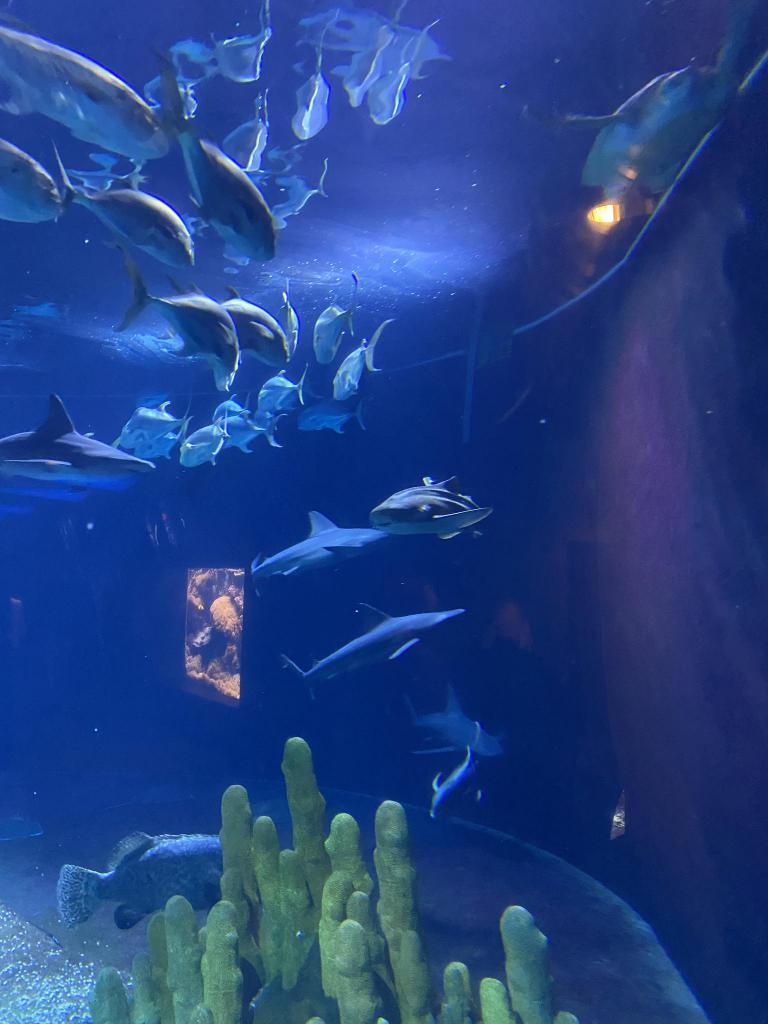fish: (153, 47, 276, 263), (0, 44, 171, 160), (55, 140, 195, 268), (58, 831, 224, 931), (113, 245, 237, 373), (157, 286, 290, 368), (1, 136, 62, 224), (334, 318, 394, 400), (314, 275, 360, 365), (430, 746, 484, 822), (121, 395, 194, 449), (298, 390, 372, 434), (218, 410, 288, 452), (180, 408, 228, 468), (134, 414, 196, 460), (258, 364, 310, 408), (213, 392, 252, 424)
shark: (280, 601, 476, 703), (1, 394, 157, 504), (248, 506, 386, 592), (368, 474, 492, 540), (408, 682, 504, 758)
